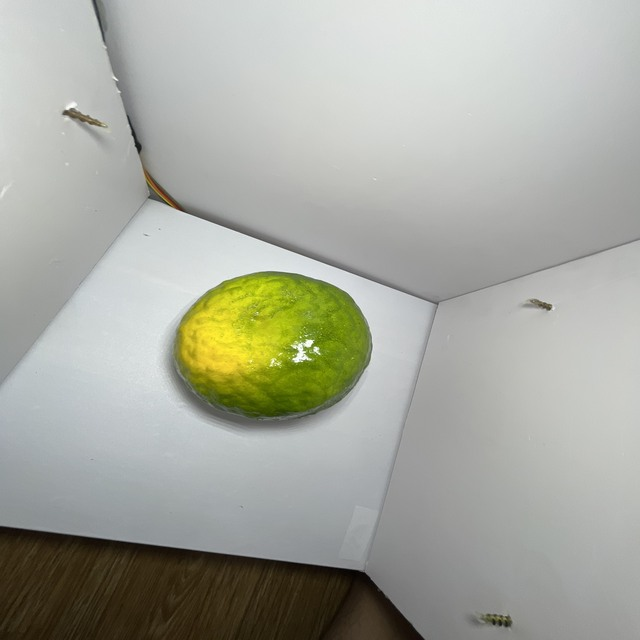Cam xanh: (169, 265, 378, 432)
